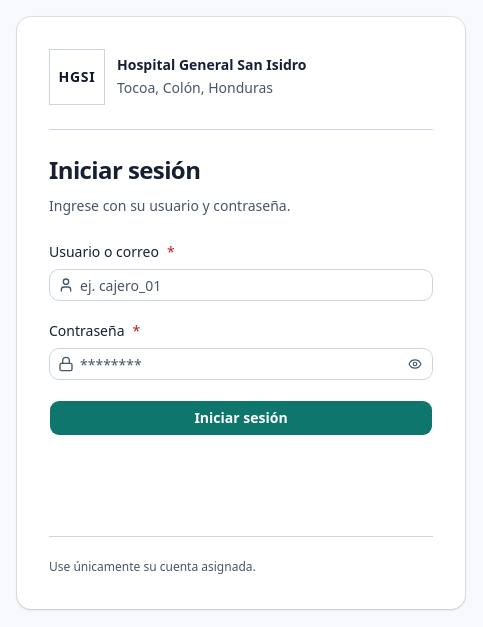
Test: LoginView › toggles password visibility when toggle button is clicked
This screenshot has width=483, height=627.
What coordinates should you click on to do the following:
click the button named "mostrar contraseña"
I would click on:
 (415, 364)
Its box is [401,348,429,380].
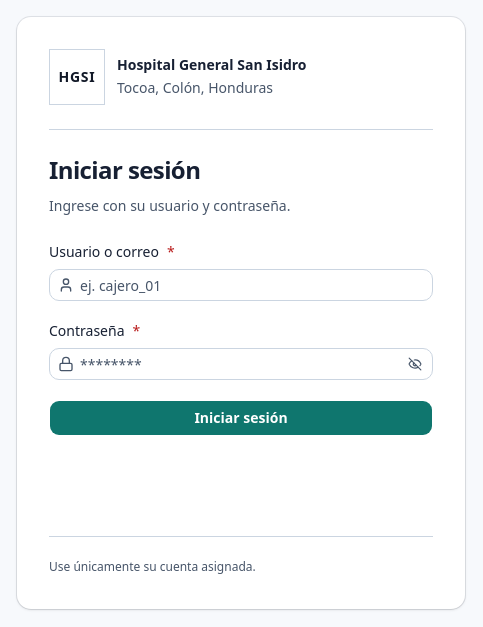
Result: the button named "ocultar contraseña" is shown at [401,348,429,380]
